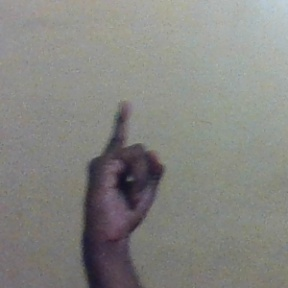I: (84, 98, 169, 240)
